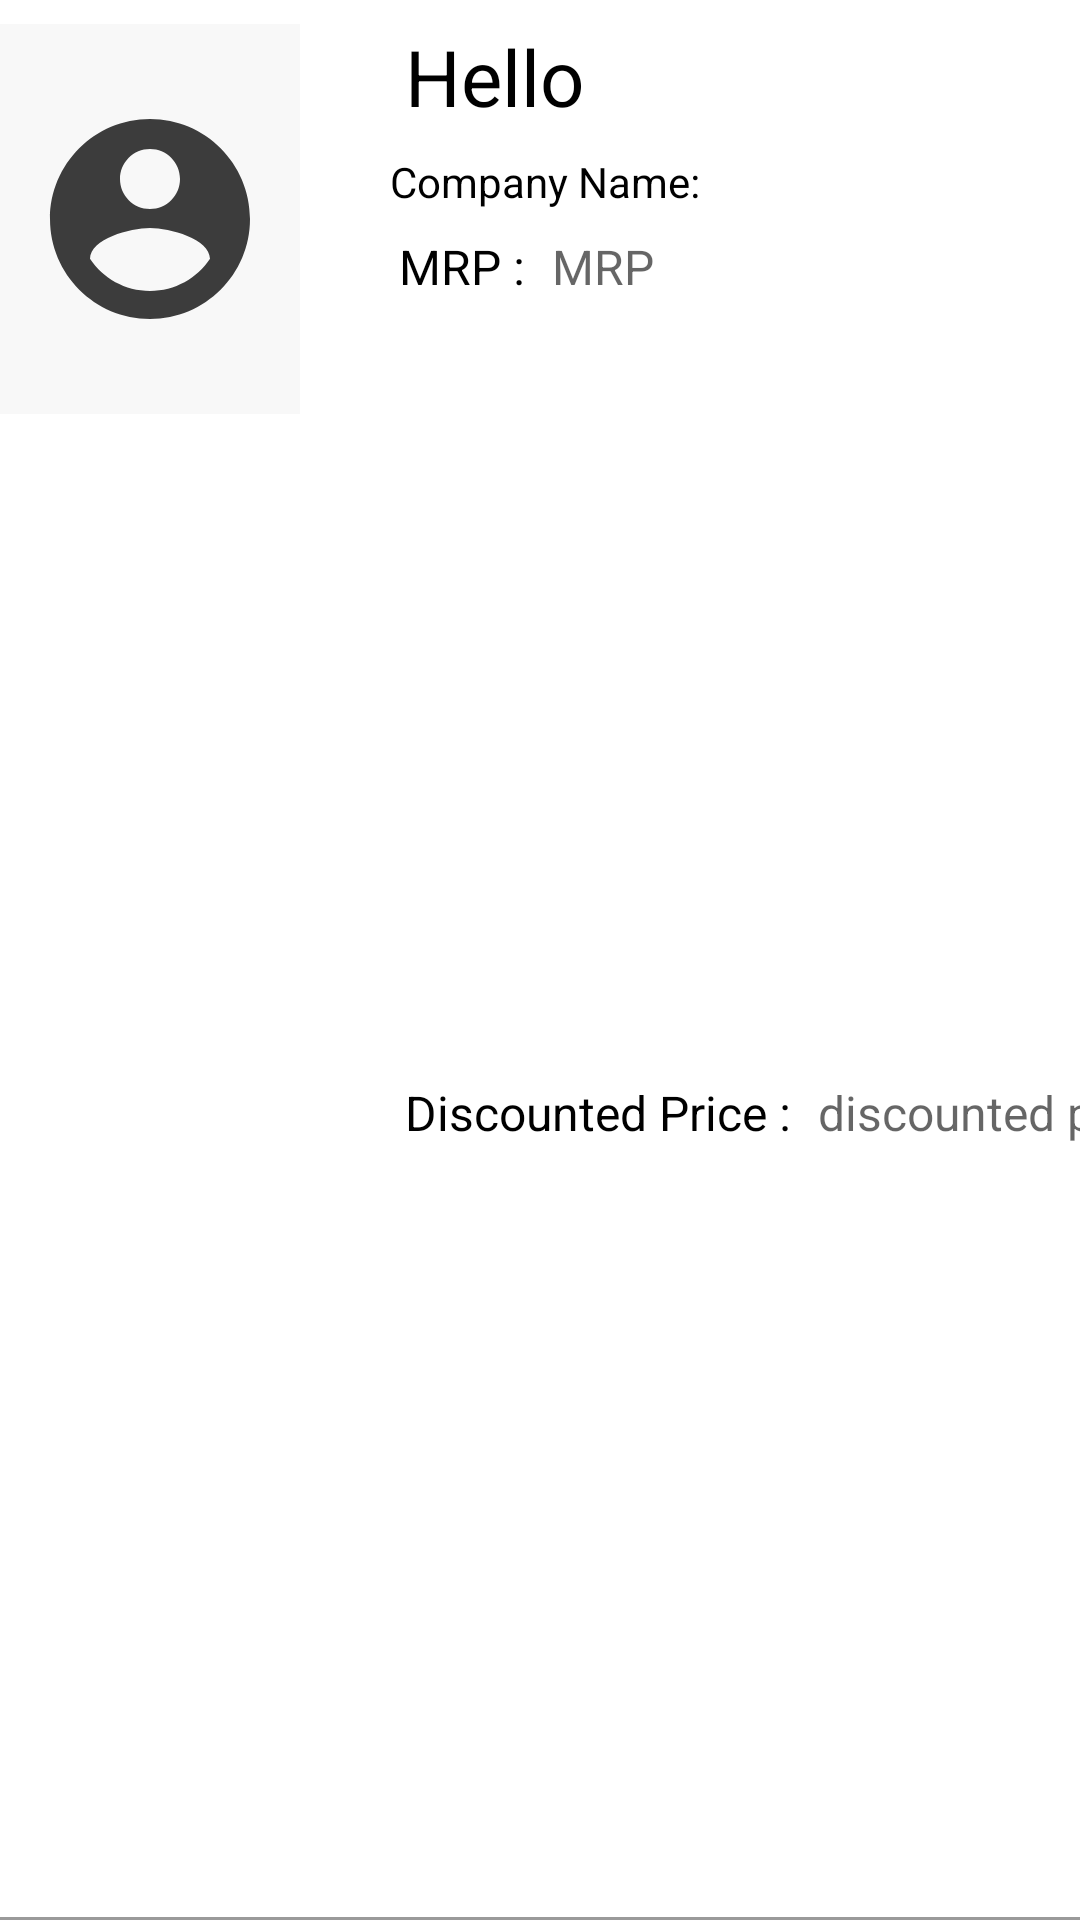

Icon click points for this 1080 x 1920 phone screenshot, format (x=x, y=y):
profile: (x=150, y=219)
